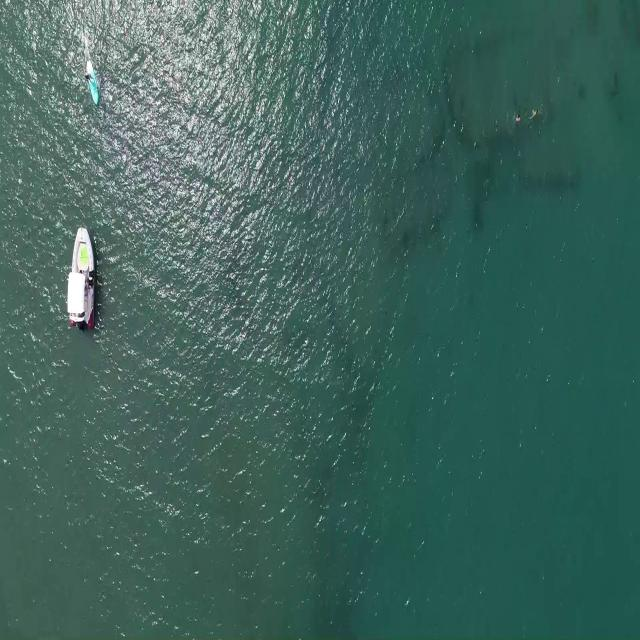boat: (66, 215, 98, 335)
person: (530, 107, 546, 119), (85, 69, 97, 84), (514, 112, 522, 122)
surfboard: (84, 59, 99, 107)
